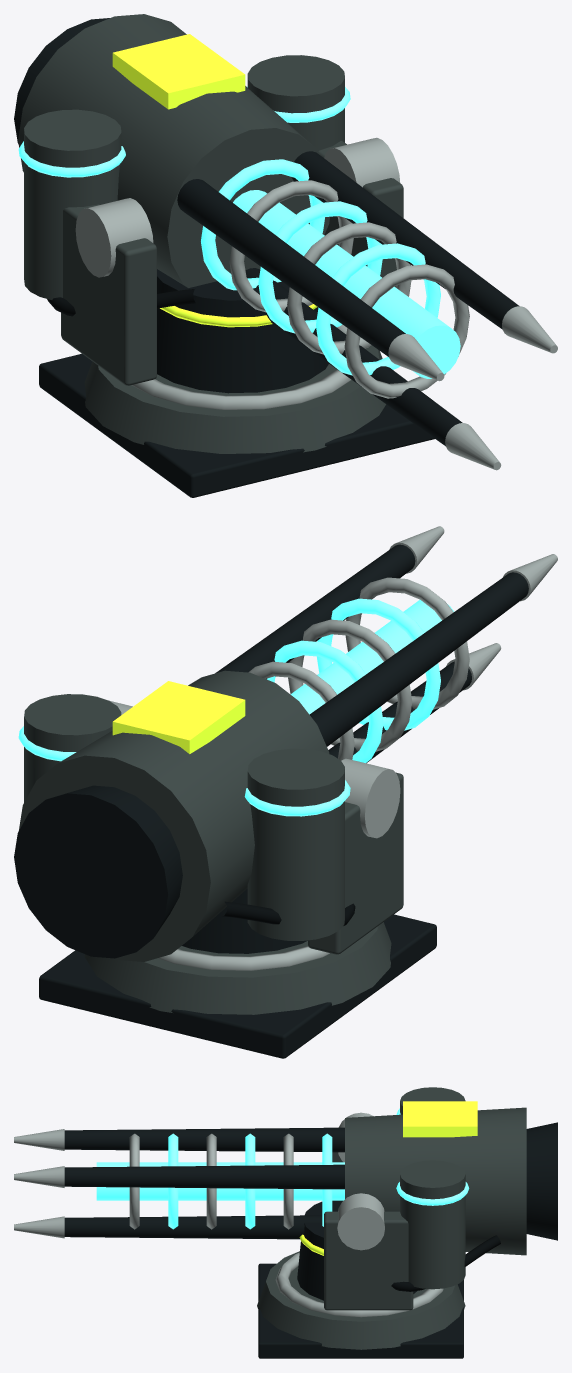
File: pulse-projector-lod1.glb
The picture shows the model from 3 angles, top to bottom: view 1: azimuth 30°, elevation 25°; view 2: azimuth 150°, elevation 25°; view 3: azimuth 270°, elevation 25°; orthographic projection. The views are drawn at different scales.
Parts seen in each view (by area): view 1: receiver__Cerakote_graphite_armor, focus-prongs__Recessed_carbon_mechanism, capacitors__Cerakote_graphite_armor, mount__Cerakote_graphite_armor, cradle__Cerakote_graphite_armor, yaw-drive__Recessed_carbon_mechanism, mount__Recessed_carbon_mechanism, induction-rings__Machined_titanium, induction-rings__Ionized_cyan_core, trunnion__Machined_titanium, core__Ionized_cyan_core, identification__Velocity_chartreuse_identification (+6 smaller); view 2: receiver__Cerakote_graphite_armor, receiver__Recessed_carbon_mechanism, capacitors__Cerakote_graphite_armor, focus-prongs__Recessed_carbon_mechanism, mount__Cerakote_graphite_armor, mount__Recessed_carbon_mechanism, induction-rings__Machined_titanium, cradle__Cerakote_graphite_armor, identification__Velocity_chartreuse_identification, induction-rings__Ionized_cyan_core, trunnion__Machined_titanium, core__Ionized_cyan_core (+5 smaller); view 3: focus-prongs__Recessed_carbon_mechanism, receiver__Cerakote_graphite_armor, capacitors__Cerakote_graphite_armor, mount__Cerakote_graphite_armor, cradle__Cerakote_graphite_armor, mount__Recessed_carbon_mechanism, receiver__Recessed_carbon_mechanism, core__Ionized_cyan_core, identification__Velocity_chartreuse_identification, trunnion__Machined_titanium, induction-rings__Machined_titanium, focus-prongs__Machined_titanium (+5 smaller).
Boxes of the visible parts, <box> form: receiver__Cerakote_graphite_armor: <box>18,14,329,287</box>; focus-prongs__Recessed_carbon_mechanism: <box>177,151,519,445</box>; capacitors__Cerakote_graphite_armor: <box>24,55,344,299</box>; mount__Cerakote_graphite_armor: <box>84,345,385,453</box>; cradle__Cerakote_graphite_armor: <box>61,141,403,385</box>; yaw-drive__Recessed_carbon_mechanism: <box>157,269,328,393</box>; mount__Recessed_carbon_mechanism: <box>39,353,434,497</box>; induction-rings__Machined_titanium: <box>229,180,469,398</box>; induction-rings__Ionized_cyan_core: <box>201,159,440,375</box>; trunnion__Machined_titanium: <box>75,137,400,277</box>; core__Ionized_cyan_core: <box>233,190,460,378</box>; identification__Velocity_chartreuse_identification: <box>112,34,245,109</box>; receiver__Cerakote_graphite_armor: <box>19,670,329,961</box>; receiver__Recessed_carbon_mechanism: <box>14,785,182,958</box>; capacitors__Cerakote_graphite_armor: <box>24,694,344,940</box>; focus-prongs__Recessed_carbon_mechanism: <box>215,544,528,763</box>; mount__Cerakote_graphite_armor: <box>84,922,391,1014</box>; mount__Recessed_carbon_mechanism: <box>39,914,436,1058</box>; induction-rings__Machined_titanium: <box>248,577,469,760</box>; cradle__Cerakote_graphite_armor: <box>308,772,403,954</box>; identification__Velocity_chartreuse_identification: <box>112,681,245,753</box>; induction-rings__Ionized_cyan_core: <box>267,598,440,763</box>; trunnion__Machined_titanium: <box>109,700,400,838</box>; core__Ionized_cyan_core: <box>290,600,454,714</box>; focus-prongs__Recessed_carbon_mechanism: <box>64,1127,344,1239</box>; receiver__Cerakote_graphite_armor: <box>345,1107,526,1255</box>; capacitors__Cerakote_graphite_armor: <box>400,1087,465,1289</box>; mount__Cerakote_graphite_armor: <box>257,1251,465,1349</box>; cradle__Cerakote_graphite_armor: <box>324,1152,413,1310</box>; mount__Recessed_carbon_mechanism: <box>258,1263,463,1358</box>; receiver__Recessed_carbon_mechanism: <box>526,1122,557,1240</box>; core__Ionized_cyan_core: <box>96,1162,344,1200</box>; identification__Velocity_chartreuse_identification: <box>403,1101,477,1137</box>; trunnion__Machined_titanium: <box>337,1112,384,1250</box>; induction-rings__Machined_titanium: <box>129,1133,293,1229</box>; focus-prongs__Machined_titanium: <box>14,1129,64,1238</box>.
Bounding box in the file's own units: 1.65 × 1.52 × 3.65.
